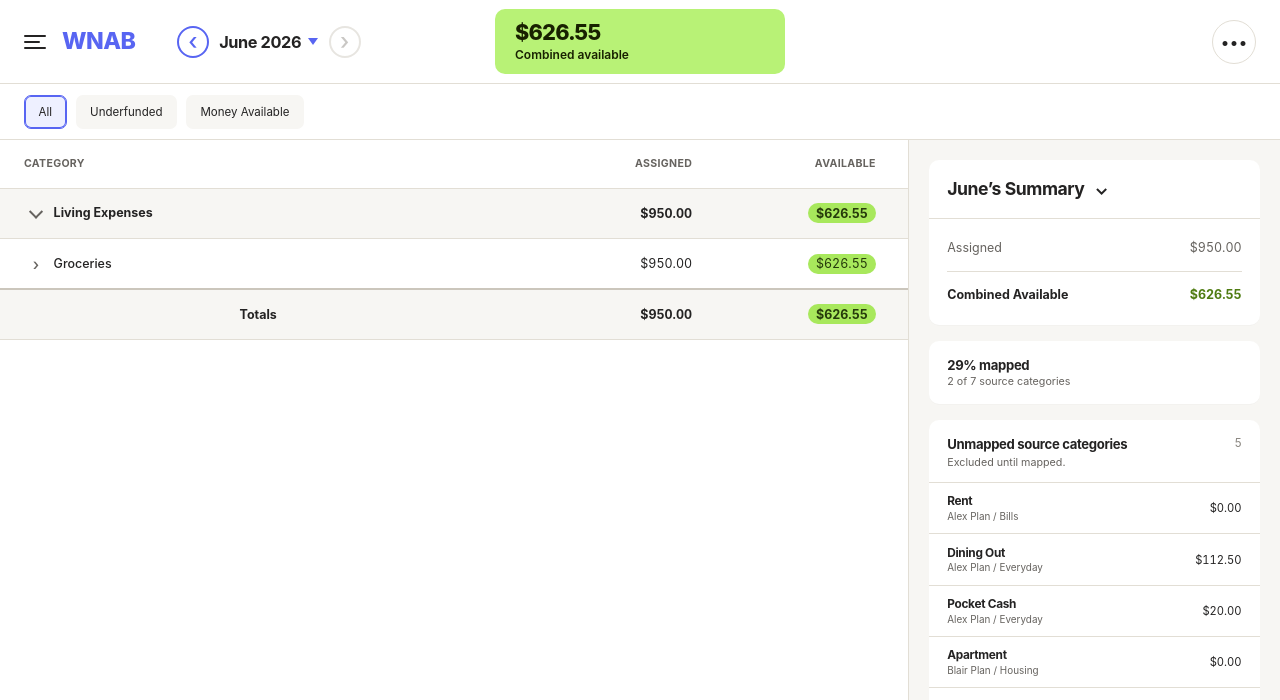
Scenario: WNAB app › expands a shared category into per-plan assigned and available amounts
This screenshot has width=1280, height=700.
Expected: the button with aria-label "Choose month, June 2026" is shown, [217, 26, 321, 57]
Expected: the heading "Unmapped source categories" is shown, [947, 436, 1127, 452]
Click the button with aria-label "Show plan breakdown for Groceries" at (83, 264), box [24, 250, 492, 277]
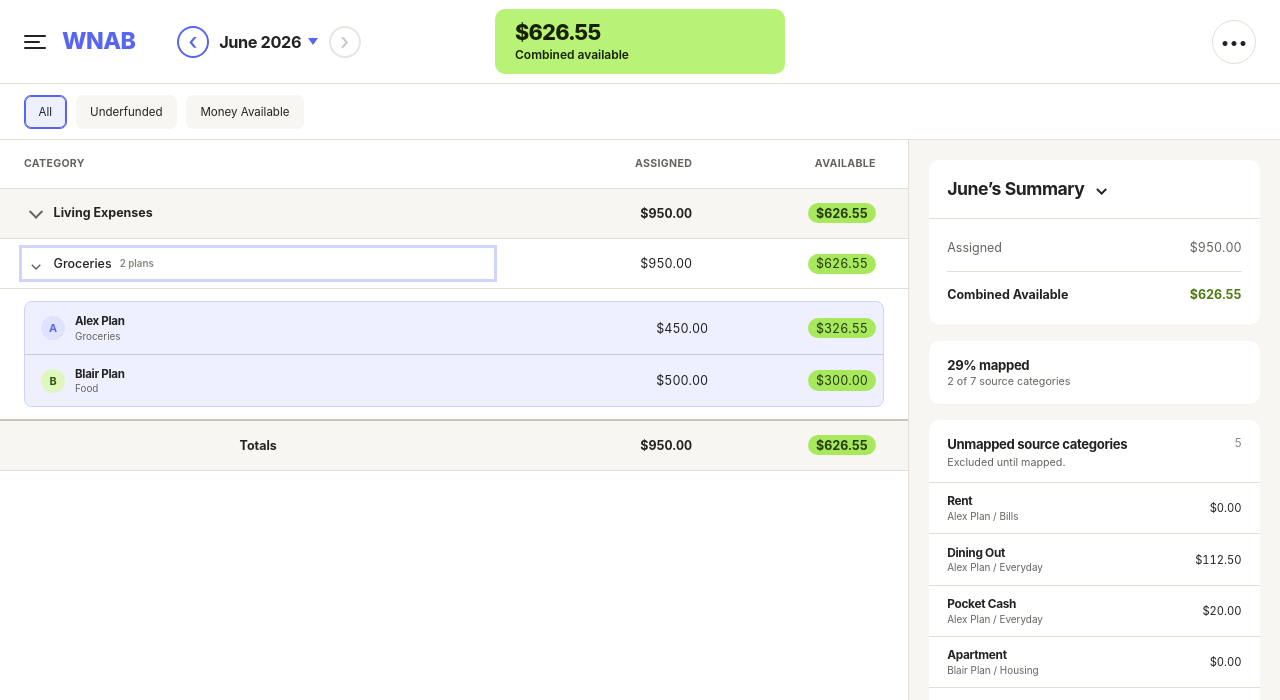
Expected: the text "Alex Plan" is shown, [75, 314, 125, 328]
Expected: the text "Blair Plan" is shown, [75, 367, 124, 381]
Expected: the text "$500.00" is shown, [656, 373, 708, 388]
